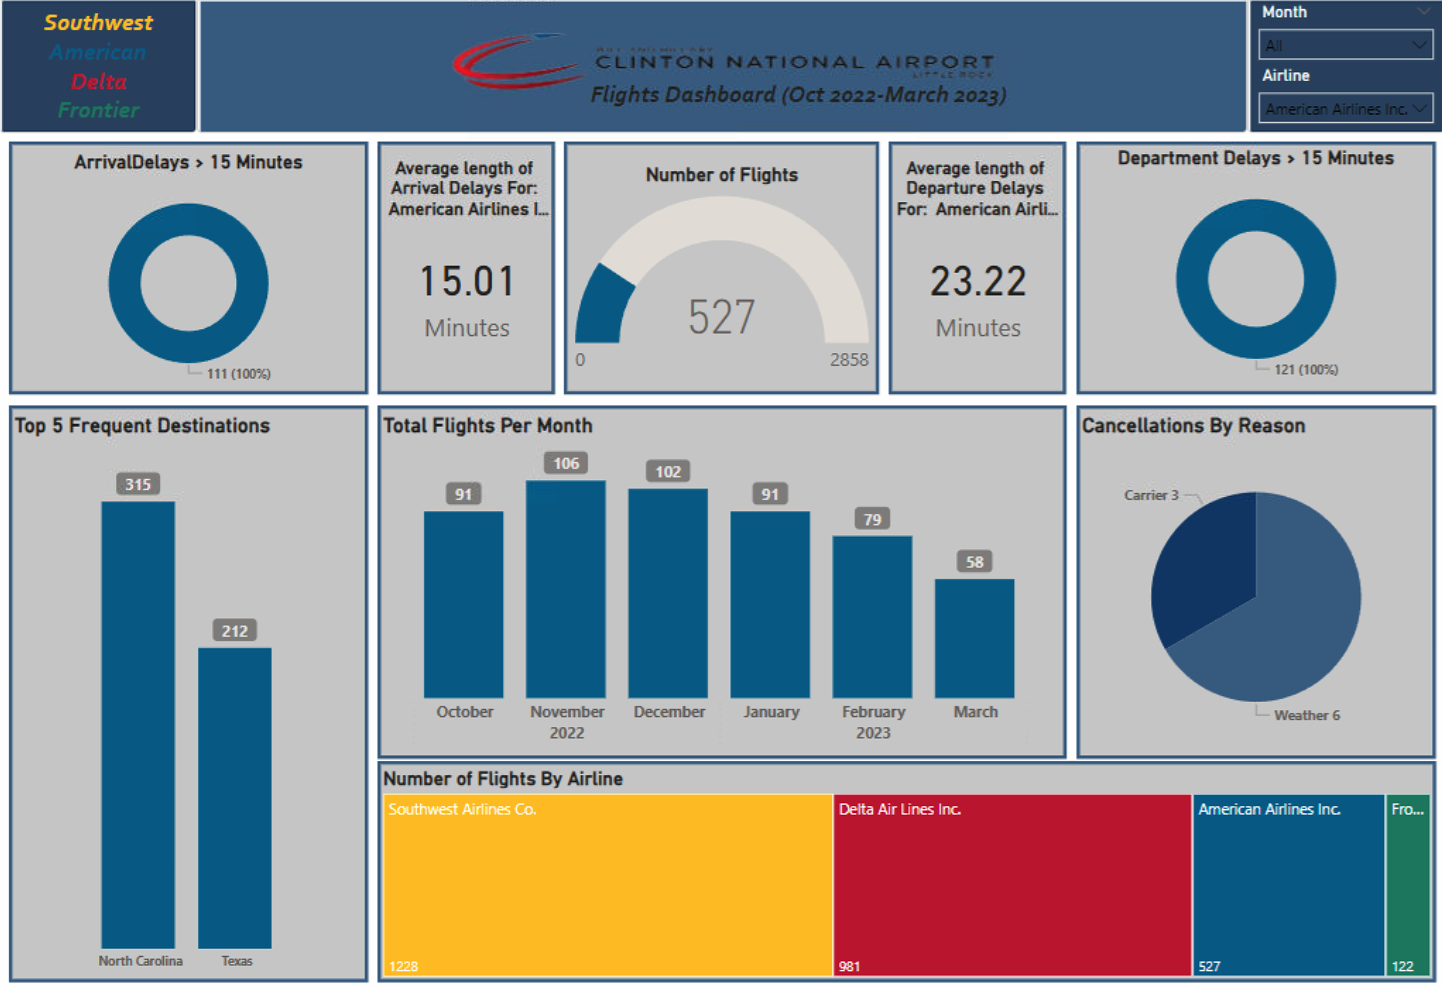

The page's visual inventory and layout, read from the dashboard file:
{"tool":"powerbi","page":{"name":"Page 1","canvas":[1280,900],"ordinal":0},"visuals":[{"type":"shape","box":[1105,0,175,120],"z":0},{"type":"shape","box":[335,676,937,196],"z":1000},{"type":"shape","box":[954,361,318,313],"z":2000},{"type":"shape","box":[335,361,610,313],"z":3000},{"type":"shape","box":[9,361,318,511],"z":4000},{"type":"shape","box":[954,128,318,224],"z":5000},{"type":"shape","box":[788,128,157,224],"z":6000},{"type":"shape","box":[335,128,157,224],"z":7000},{"type":"shape","box":[500,128,279,224],"z":8000},{"type":"shape","box":[175,0,930,120],"z":9000},{"type":"slicer","fields":{"Values":["lr_airport_data.AIRLINE_NAME"]},"box":[1105,56,175,64],"z":10000},{"type":"textbox","title":"Source: Bureau Transportation Statistics ","box":[0,879,1280,21],"z":11000},{"type":"treemap","title":"Number of Flights By Airline","fields":{"Group":["lr_airport_data.AIRLINE_NAME"],"Values":["#Measures.NumofFlights"]},"box":[335,681,937,191],"z":12000},{"type":"gauge","title":"Number of Flights","fields":{"Y":["#Measures.NumofFlights"]},"box":[505,146,270,206],"z":13000},{"type":"donutChart","title":"Department Delays > 15 Minutes","fields":{"Category":["lr_airport_data.AIRLINE_NAME"],"Y":["Sum(lr_airport_data.DEP_DEL15)"]},"box":[954,131,318,217],"z":14000},{"type":"pieChart","title":"Cancellations By Reason","fields":{"Y":["CountNonNull(lr_airport_data.CANCELLED)"],"Category":["lr_airport_data.CANCELLATION_DESCRIPTION"]},"box":[954,368,318,306],"z":15000},{"type":"columnChart","title":"Top 5 Frequent Destinations","fields":{"Category":["lr_airport_data.DEST_STATE_NM"],"Y":["#Measures.NumofFlights"],"Series":["lr_airport_data.AIRLINE_NAME"]},"box":[9,368,318,504],"z":16000},{"type":"lineStackedColumnComboChart","title":"Total Flights Per Month","fields":{"Y":["#Measures.NumofFlights"],"Category":["lr_airport_data.FL_DATE.Variation.Date Hierarchy.Year","lr_airport_data.FL_DATE.Variation.Date Hierarchy.Month"],"Series":["lr_airport_data.AIRLINE_NAME"]},"box":[335,368,607,306],"z":17000},{"type":"image","box":[386,0,507,120],"z":18000},{"type":"card","title":"Minutes","fields":{"Values":["Avg(lr_airport_data.DEP_DELAY_NEW)"]},"box":[806,200,121,122],"z":19000},{"type":"card","fields":{"Values":["#Measures.TitleBar"]},"box":[788,128,157,83],"z":20000},{"type":"card","title":"Minutes","fields":{"Values":["Avg(lr_airport_data.ARR_DELAY)"]},"box":[356,200,116,122],"z":21000},{"type":"card","fields":{"Values":["#Measures.ArrDelayTitleBar"]},"box":[335,128,157,83],"z":22000},{"type":"slicer","fields":{"Values":["lr_airport_data.MonthYear"]},"box":[1105,0,175,56],"z":23000},{"type":"textbox","box":[481,67,453,42],"z":24000},{"type":"shape","box":[9,128,318,224],"z":25000},{"type":"donutChart","title":"ArrivalDelays > 15 Minutes","fields":{"Category":["lr_airport_data.AIRLINE_NAME"],"Y":["Sum(lr_airport_data.ARR_DEL15)"]},"box":[9,135,318,217],"z":26000},{"type":"shape","box":[0,0,175,120],"z":27000},{"type":"textbox","box":[20,4,135,120],"z":28000}]}

Visuals, with their boxes in screenshot pixels (x1, y1, x2, y2), scaled from the page's 1280x900 canvas onto the 1442x988 screenshot:
shape: locate(1245, 0, 1441, 132)
shape: locate(377, 742, 1433, 957)
shape: locate(1075, 396, 1433, 740)
shape: locate(377, 396, 1065, 740)
shape: locate(10, 396, 368, 957)
shape: locate(1075, 141, 1433, 386)
shape: locate(888, 141, 1065, 386)
shape: locate(377, 141, 554, 386)
shape: locate(563, 141, 878, 386)
shape: locate(197, 0, 1245, 132)
slicer - lr_airport_data.AIRLINE_NAME: locate(1245, 61, 1441, 132)
"Source: Bureau Transportation Statistics " textbox: locate(0, 965, 1441, 987)
"Number of Flights By Airline" treemap: locate(377, 748, 1433, 957)
"Number of Flights" gauge: locate(569, 160, 873, 386)
"Department Delays > 15 Minutes" donutChart: locate(1075, 144, 1433, 382)
"Cancellations By Reason" pieChart: locate(1075, 404, 1433, 740)
"Top 5 Frequent Destinations" columnChart: locate(10, 404, 368, 957)
"Total Flights Per Month" lineStackedColumnComboChart: locate(377, 404, 1061, 740)
image: locate(435, 0, 1006, 132)
"Minutes" card: locate(908, 220, 1044, 353)
card - #Measures.TitleBar: locate(888, 141, 1065, 232)
"Minutes" card: locate(401, 220, 532, 353)
card - #Measures.ArrDelayTitleBar: locate(377, 141, 554, 232)
slicer - lr_airport_data.MonthYear: locate(1245, 0, 1441, 61)
textbox: locate(542, 74, 1052, 120)
shape: locate(10, 141, 368, 386)
"ArrivalDelays > 15 Minutes" donutChart: locate(10, 148, 368, 386)
shape: locate(0, 0, 197, 132)
textbox: locate(23, 4, 175, 136)
